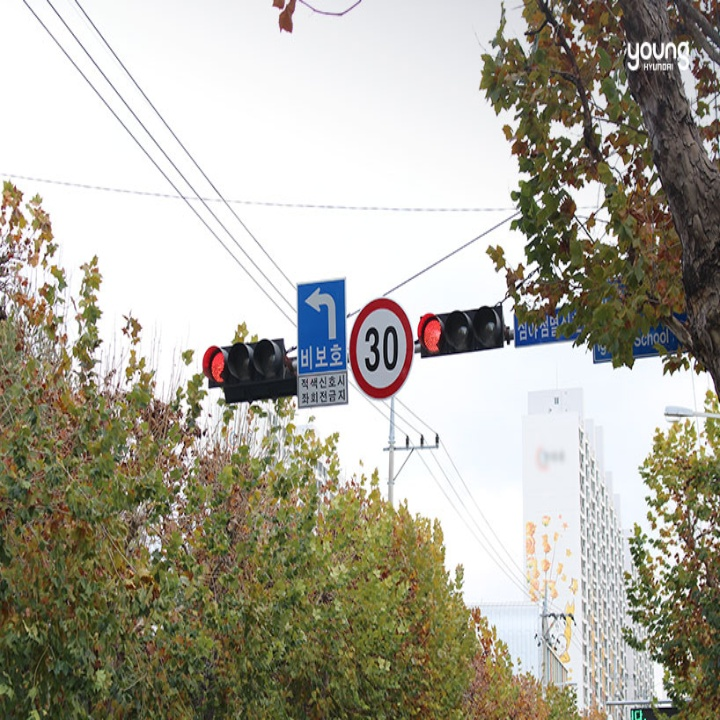left: (302, 283, 343, 343)
